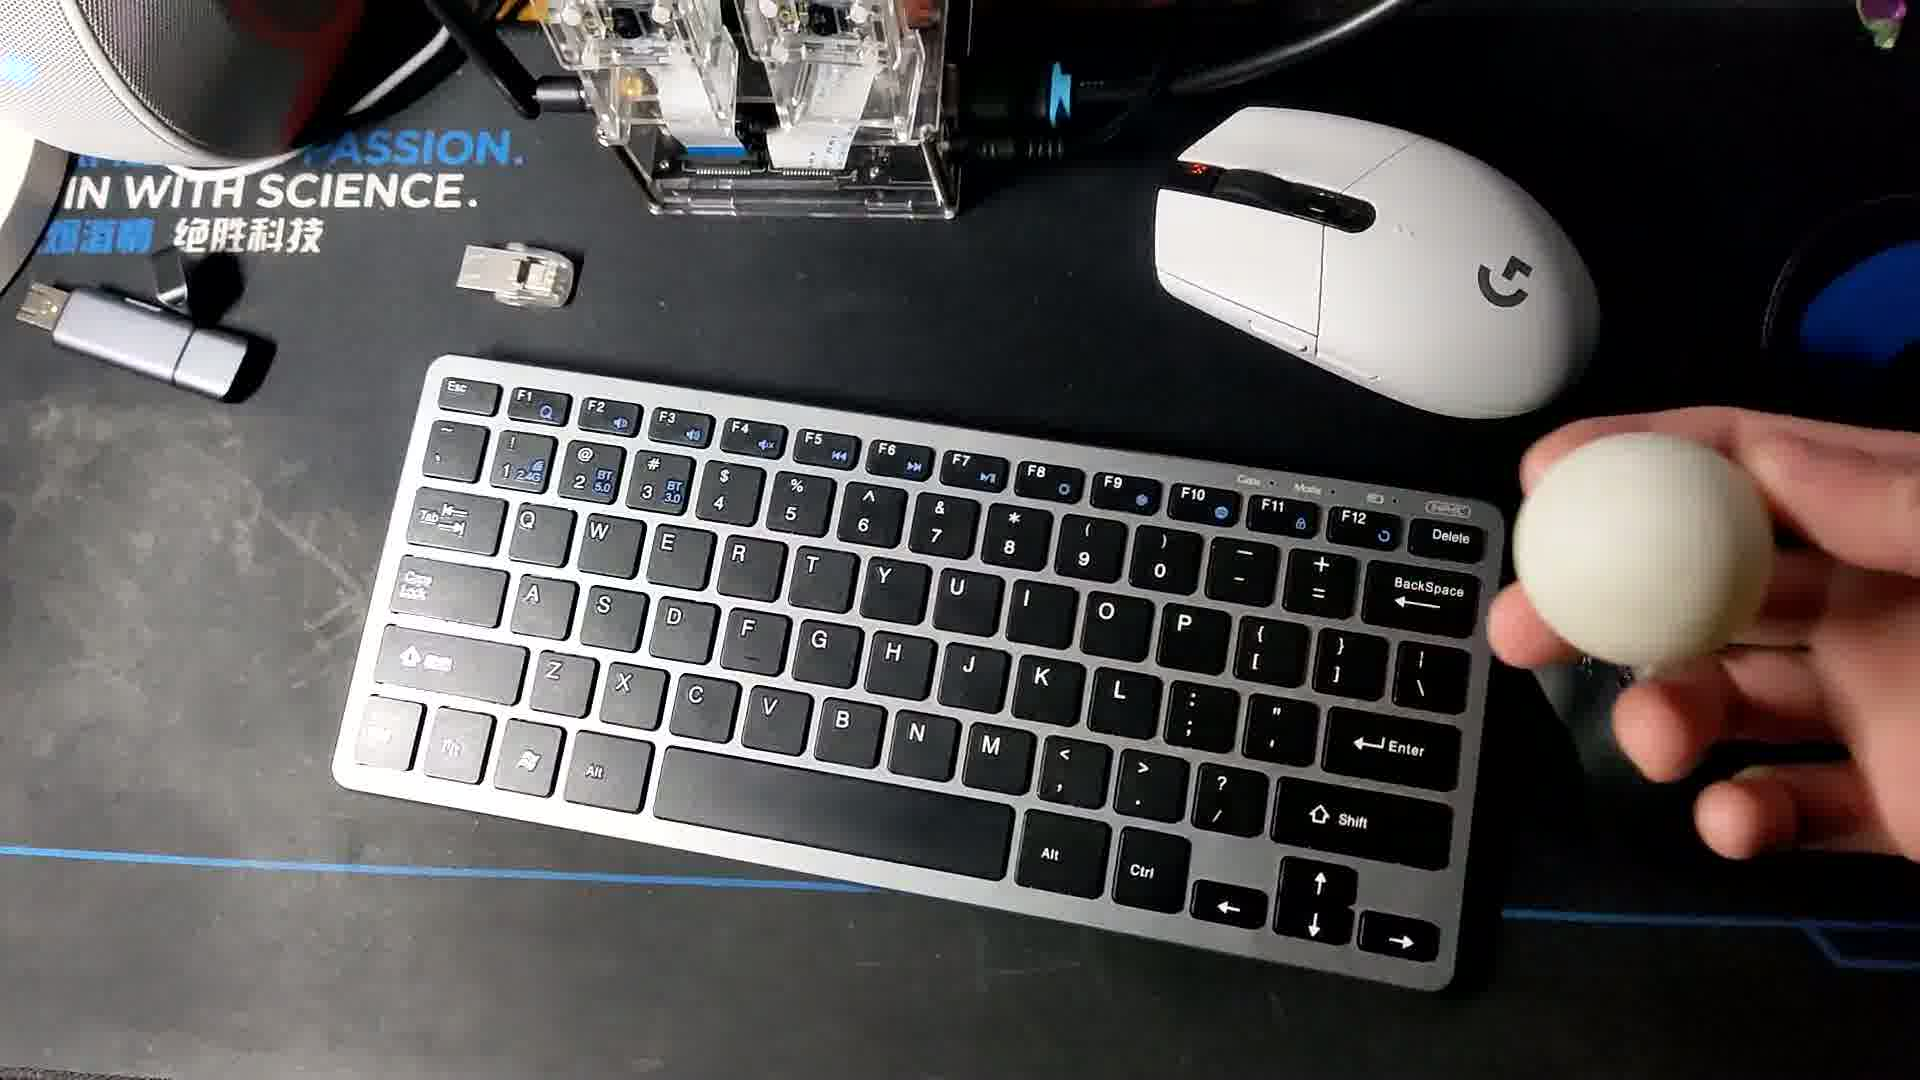Ball: (1511, 435, 1764, 667)
